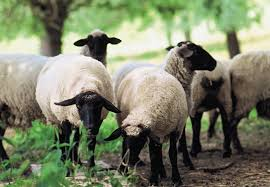koyun: (36, 53, 116, 168), (113, 70, 187, 185), (167, 43, 220, 83), (75, 28, 122, 62)
